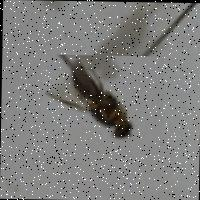Oriental-fruit-fly: (39, 53, 163, 153)
